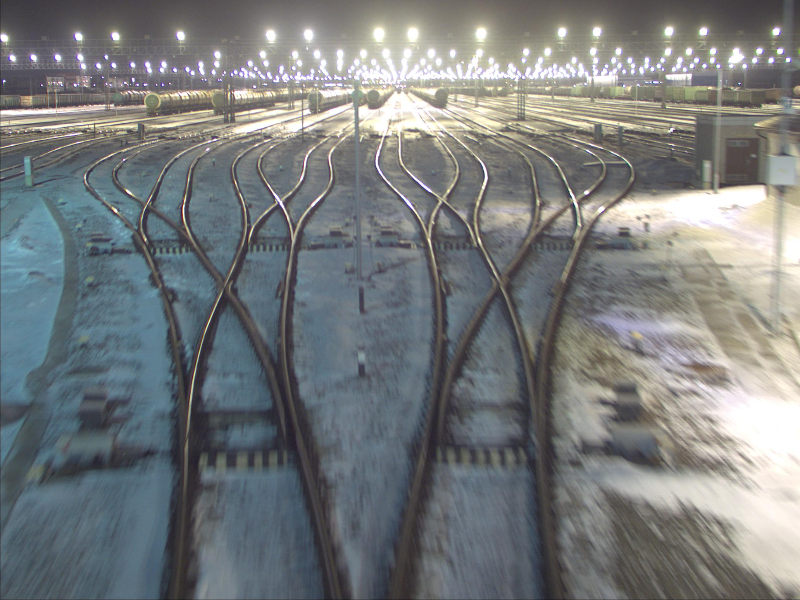left: (420, 388, 554, 457), (127, 218, 203, 247), (238, 221, 301, 250)
right: (170, 369, 310, 452), (419, 222, 492, 254), (527, 217, 585, 249)
